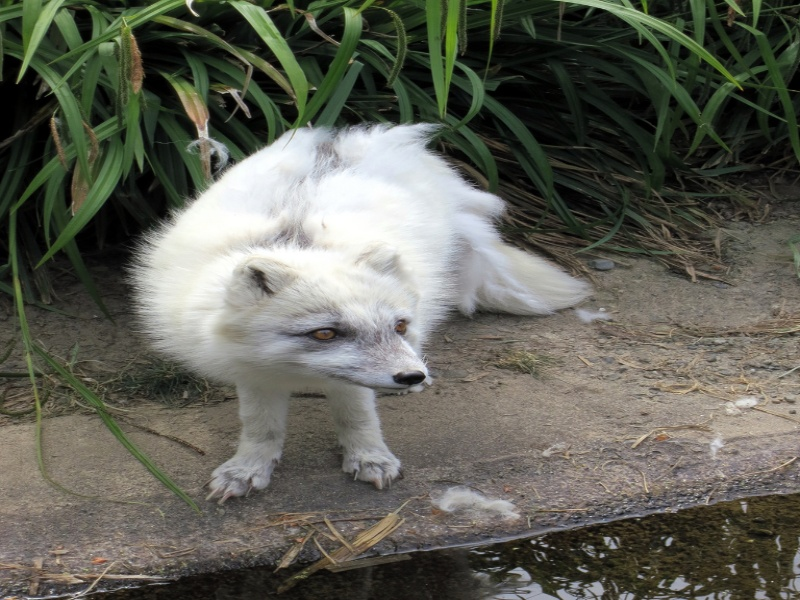fox: (133, 115, 595, 505)
